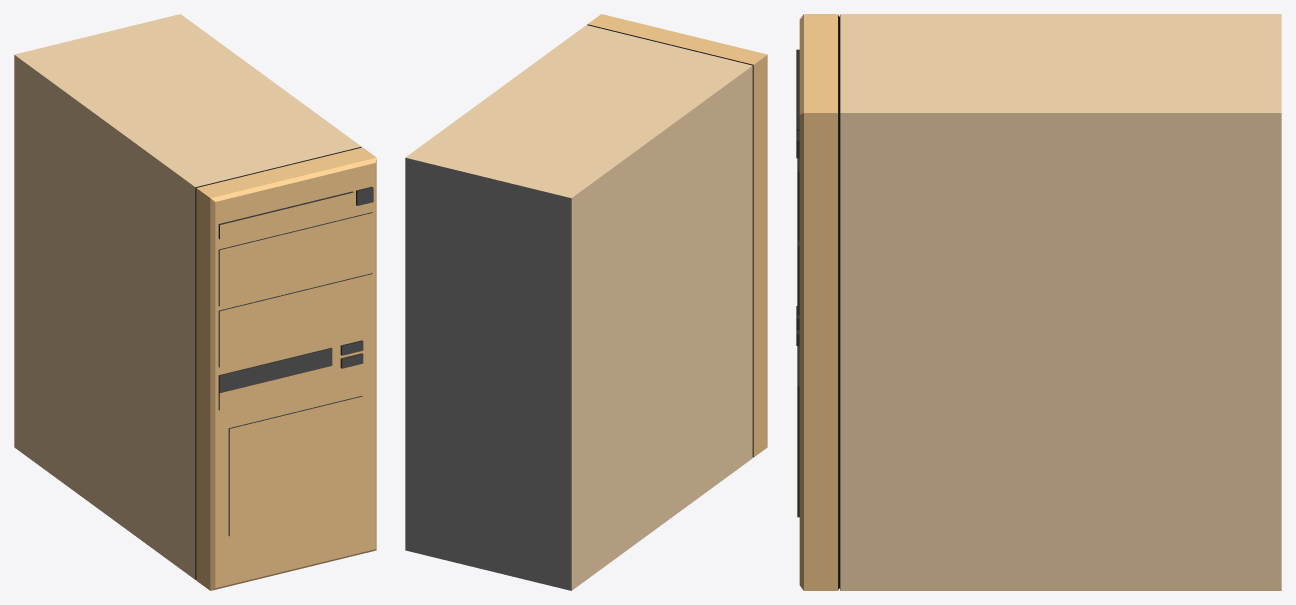
The model's file is Computer_Case_Old.fbx.
3 renders of one model, left to right at view 1: azimuth 30°, elevation 25°; view 2: azimuth 150°, elevation 25°; view 3: azimuth 270°, elevation 25°, orthographic. The views are drawn at different scales.
Parts seen in each view (by area): view 1: Computer_Case_Old; view 2: Computer_Case_Old; view 3: Computer_Case_Old.
Part boxes in pixels (<box>): Computer_Case_Old: <box>14,14,376,590</box>; Computer_Case_Old: <box>405,14,767,590</box>; Computer_Case_Old: <box>796,14,1281,590</box>.
Size of the model in its own units: 17.67 by 39.86 by 36.7.
